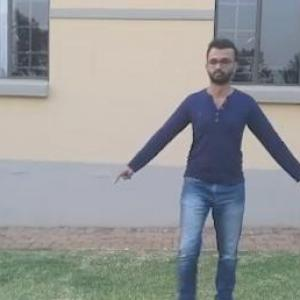land: (125, 42, 299, 299)
